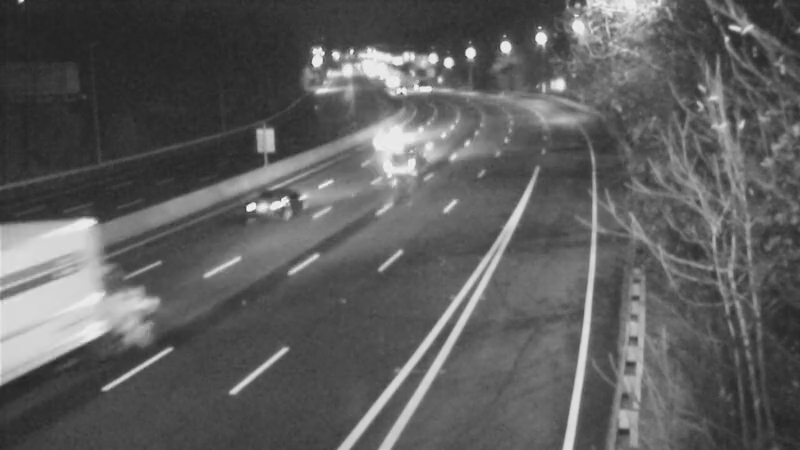vehicle: (1, 251, 101, 361), (365, 124, 445, 204), (235, 165, 315, 245), (398, 59, 448, 109), (375, 65, 425, 115), (370, 106, 420, 156)
